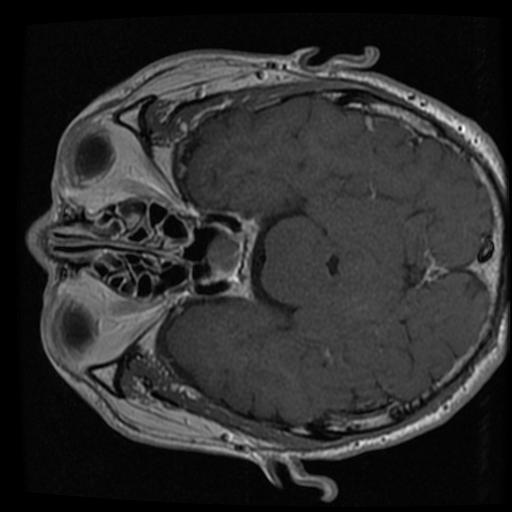pituitary tumour: (206, 231, 243, 282)
